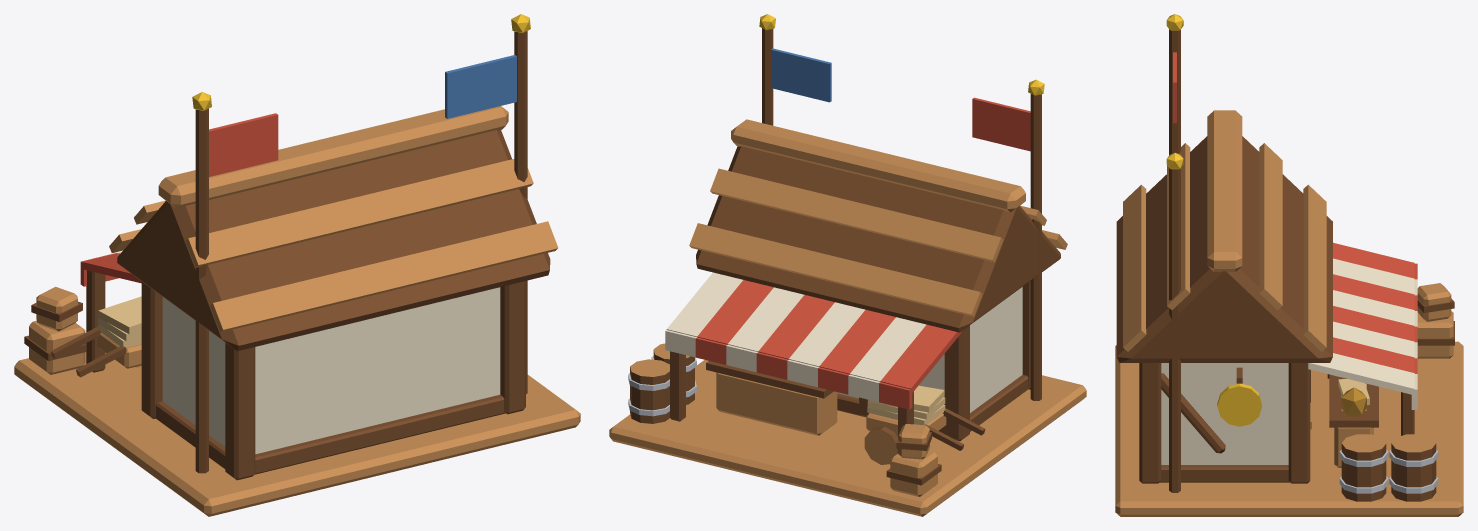
The model's file is trading_post_l2.fbx.
3 renders of one model, left to right at view 1: azimuth 30°, elevation 25°; view 2: azimuth 150°, elevation 25°; view 3: azimuth 270°, elevation 25°, orthographic. The views are drawn at different scales.
Parts seen in each view (by area): view 1: trading_post_l2; view 2: trading_post_l2; view 3: trading_post_l2.
Boxes of the visible parts, <box> form: trading_post_l2: <box>14,14,580,516</box>; trading_post_l2: <box>609,14,1086,516</box>; trading_post_l2: <box>1115,14,1463,516</box>.
Bounding box in the file's own units: 0.9418 × 0.942 × 0.84.
